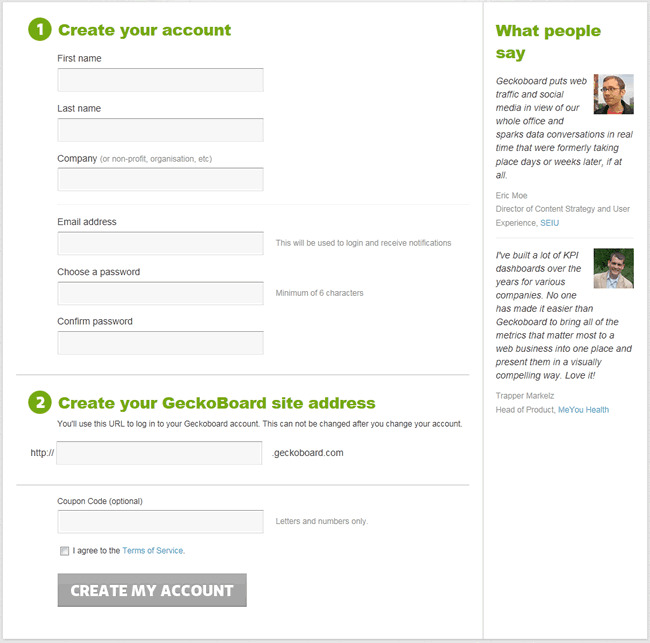_form_: (1, 268, 277, 631), (1, 1, 277, 363)
button: (57, 572, 247, 607)
checkbox: (58, 543, 71, 556)
checkbox_with_label: (55, 542, 183, 557)
field: (54, 65, 263, 94), (54, 278, 265, 306), (52, 439, 264, 466), (53, 165, 264, 192), (54, 116, 264, 143), (54, 508, 264, 535), (55, 230, 264, 257), (55, 329, 264, 356)
field_with_label: (51, 53, 267, 96), (51, 496, 266, 537), (53, 218, 267, 259), (52, 317, 266, 358), (50, 268, 267, 308), (52, 105, 267, 145), (51, 155, 268, 193), (30, 437, 266, 468)
